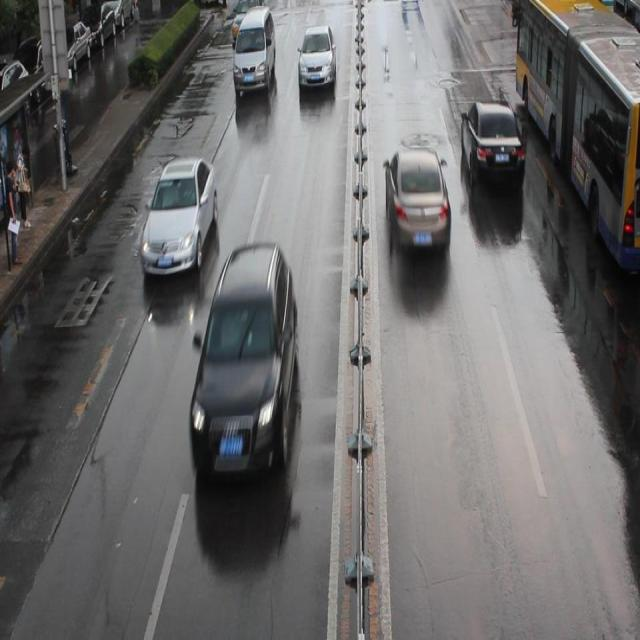car: (187, 243, 298, 474), (141, 156, 217, 278), (383, 145, 450, 258), (460, 100, 524, 188), (297, 26, 336, 88), (229, 1, 259, 43)
truck: (232, 8, 275, 90)
van: (514, 1, 640, 269)
